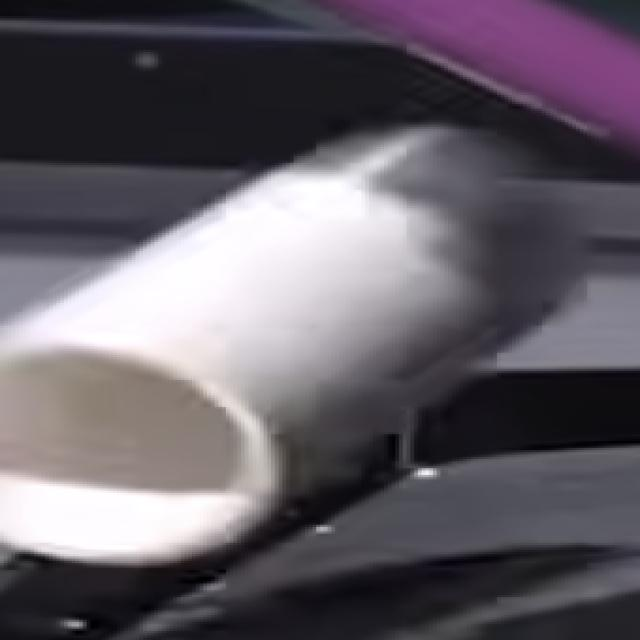Coral: (0, 123, 583, 568)
